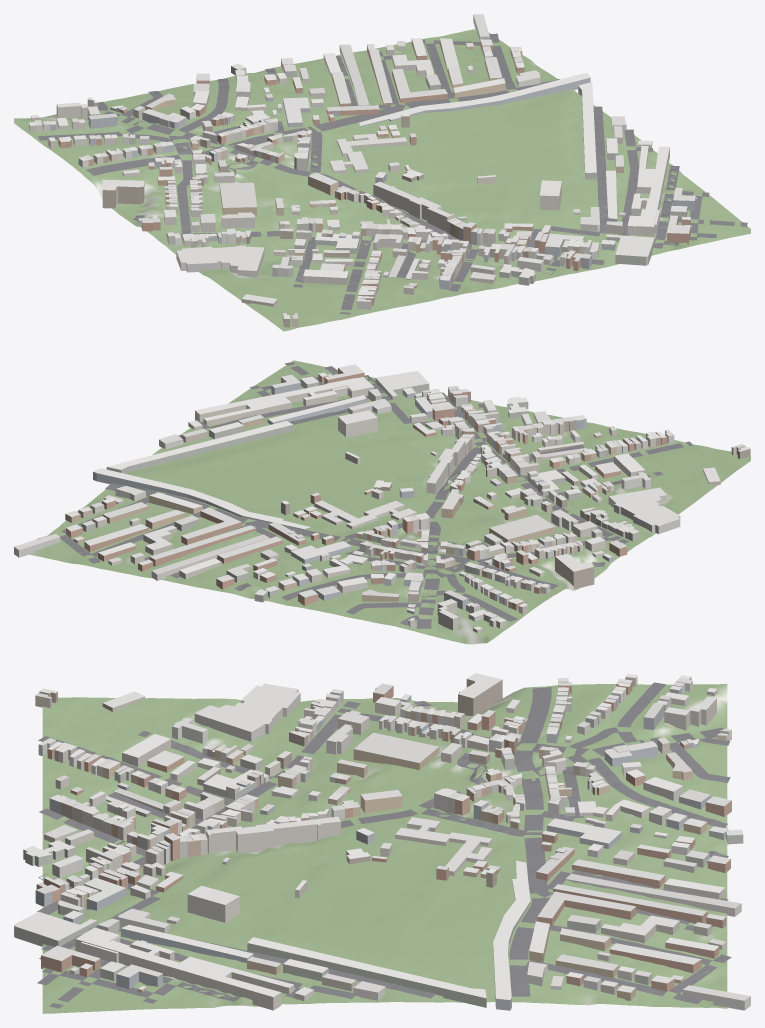
3 renders of one model, top to bottom at view 1: azimuth 30°, elevation 25°; view 2: azimuth 150°, elevation 25°; view 3: azimuth 270°, elevation 25°, orthographic. The views are drawn at different scales.
Visible parts, largest first — view 1: prim0, prim1, prim2; view 2: prim1, prim0, prim2; view 3: prim1, prim0, prim2.
Boxes of the visible parts, x1,y1,x2,y2 form: prim0: (14,29,750,331); prim1: (29,14,696,327); prim2: (38,33,747,314); prim1: (14,364,750,632); prim0: (30,360,750,644); prim2: (36,362,692,628); prim1: (14,673,750,1010); prim0: (42,683,727,1013); prim2: (37,682,731,1008).
Bounding box in the file's own units: 551 × 42.23 × 551.
